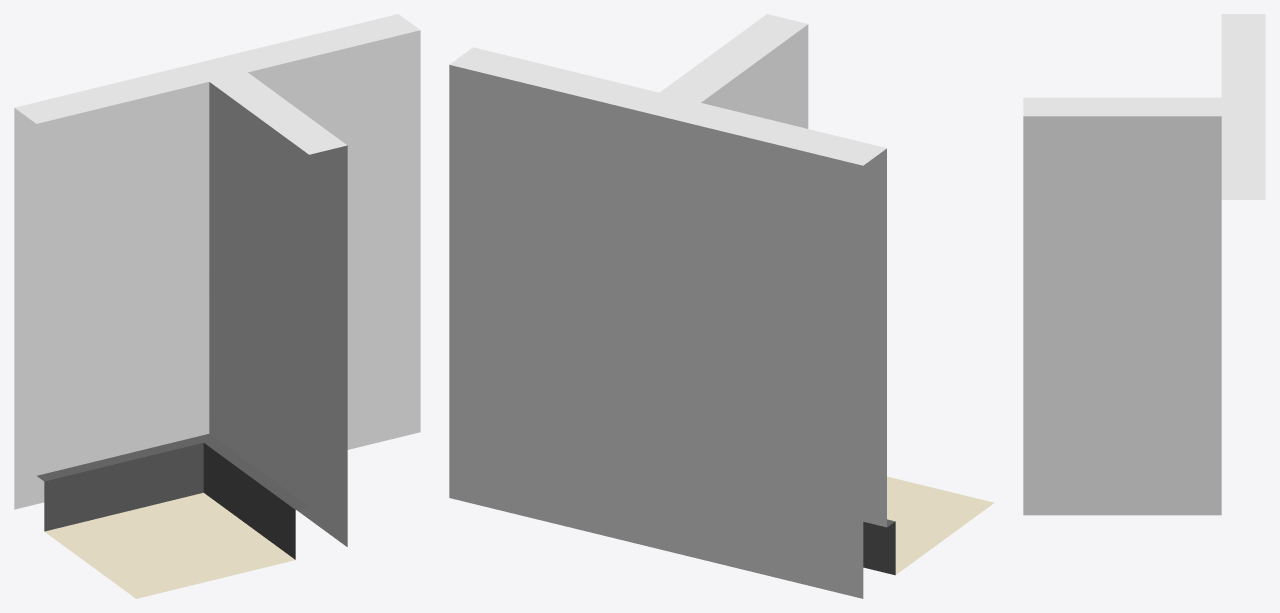
File: E_Wall_T_Shape_Elevator_R.fbx
3 renders of one model, left to right at view 1: azimuth 30°, elevation 25°; view 2: azimuth 150°, elevation 25°; view 3: azimuth 270°, elevation 25°, orthographic. The views are drawn at different scales.
Parts seen in each view (by area): view 1: E_Wall_T_Shape_Elevator_R; view 2: E_Wall_T_Shape_Elevator_R; view 3: E_Wall_T_Shape_Elevator_R.
Boxes of the visible parts, x1,y1,x2,y2 form: E_Wall_T_Shape_Elevator_R: [14, 14, 420, 598]; E_Wall_T_Shape_Elevator_R: [449, 14, 994, 598]; E_Wall_T_Shape_Elevator_R: [1023, 14, 1265, 515].
Bounding box in the file's own units: 200 × 200 × 110.
